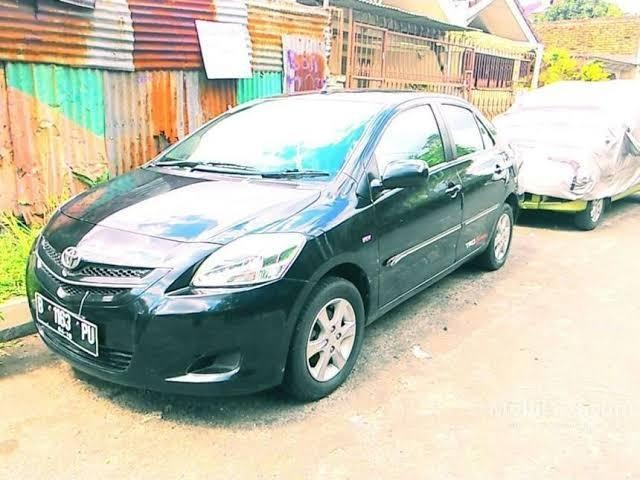plate: (30, 294, 97, 360)
